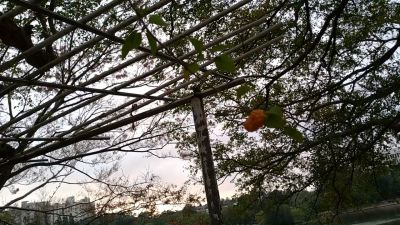eggs: (244, 108, 268, 133)
